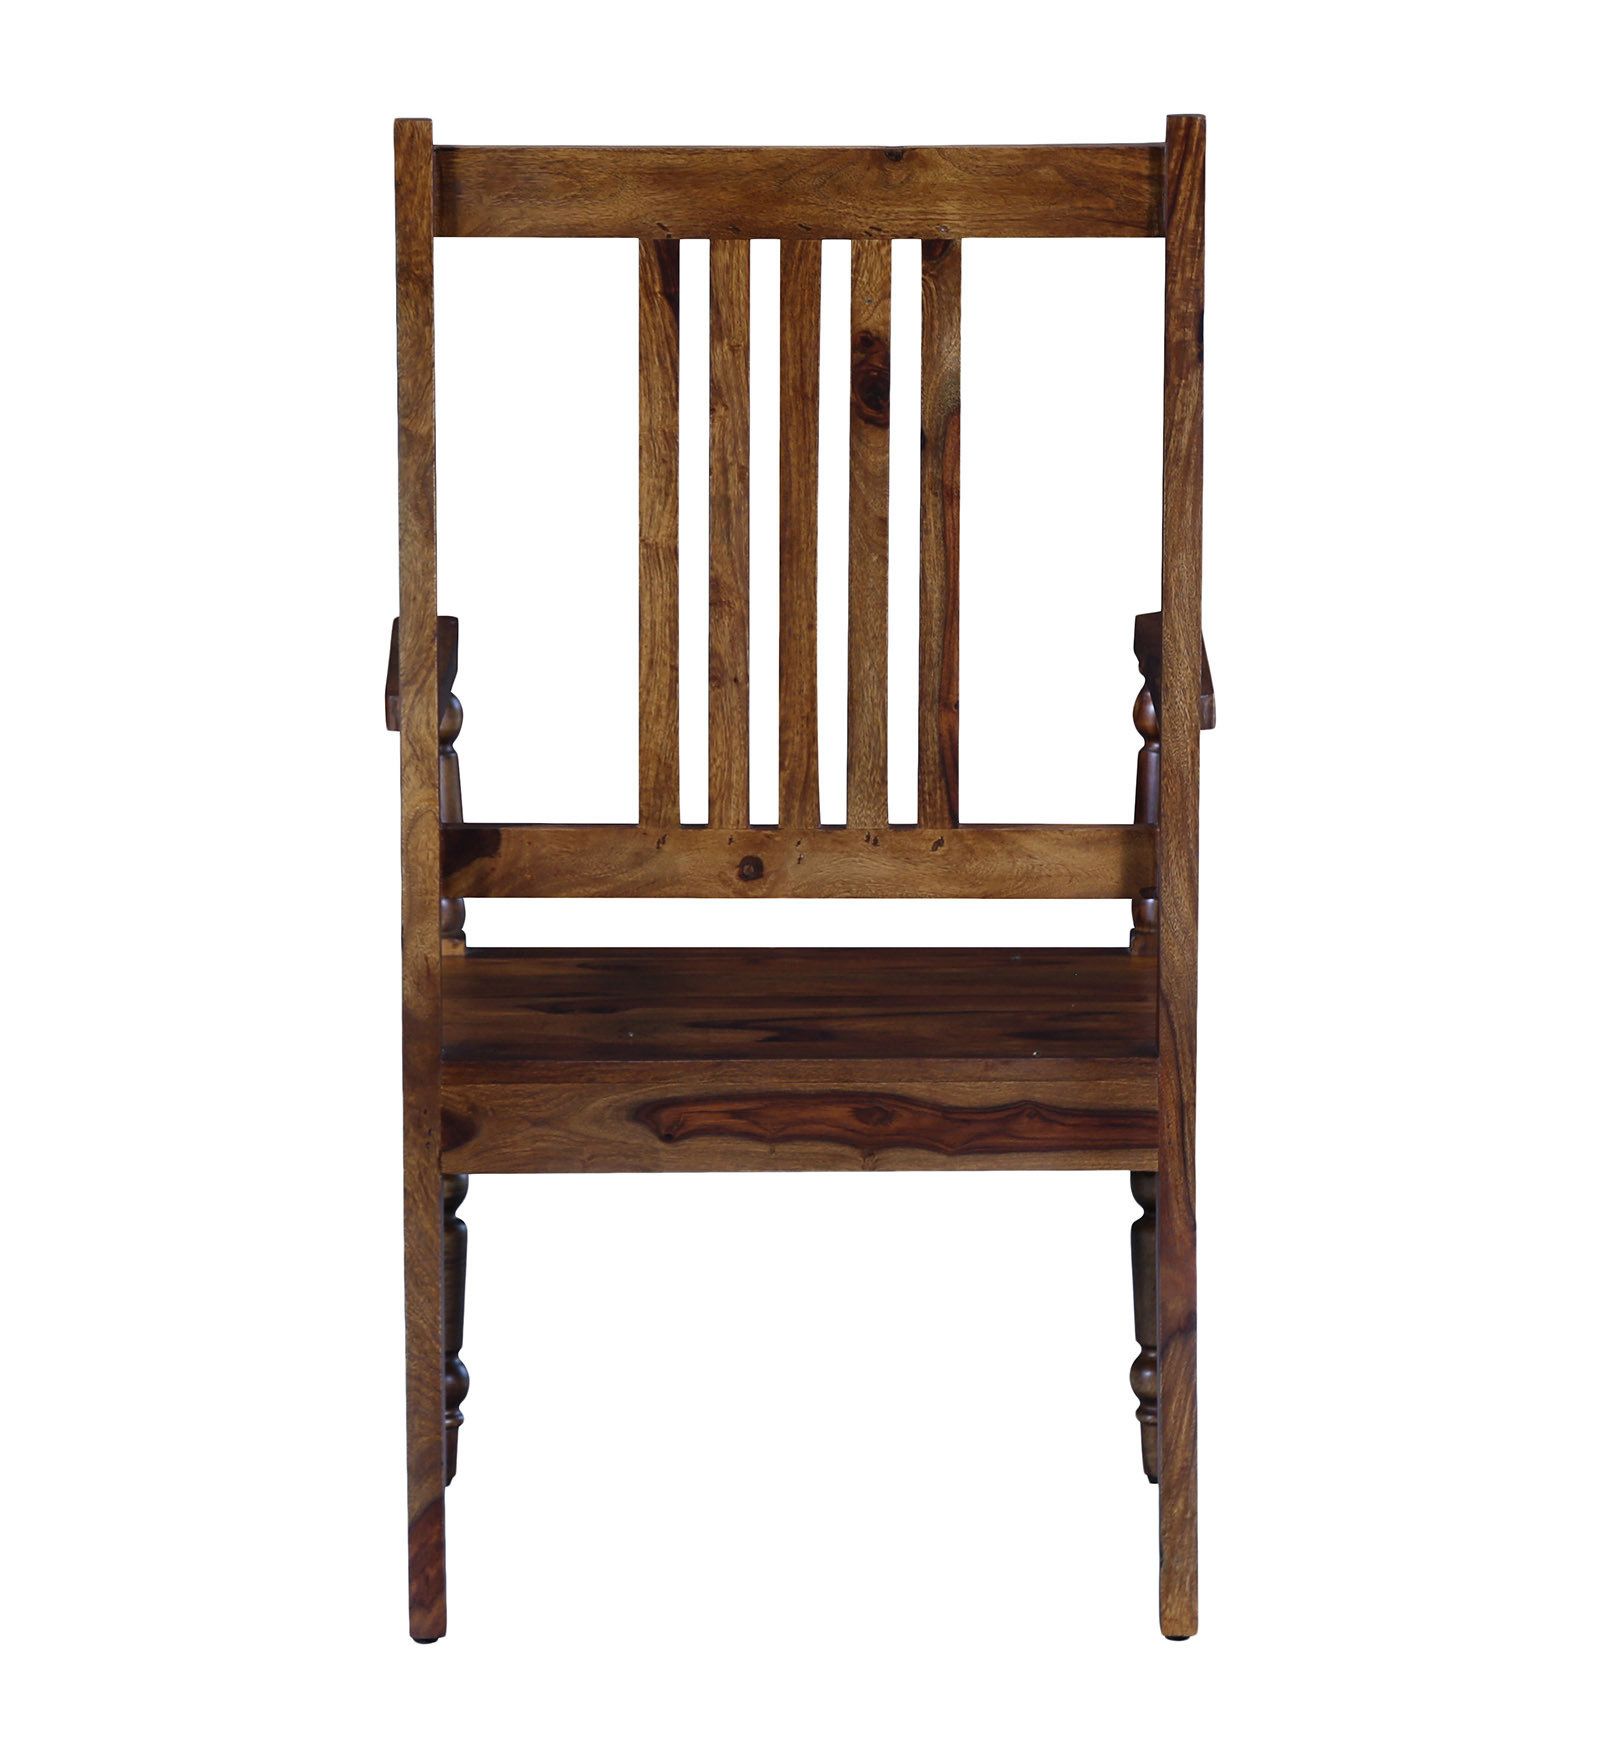Harleston Arm Chair in Provincial Teak Finish by Amberville: (314, 84, 1263, 1699)
